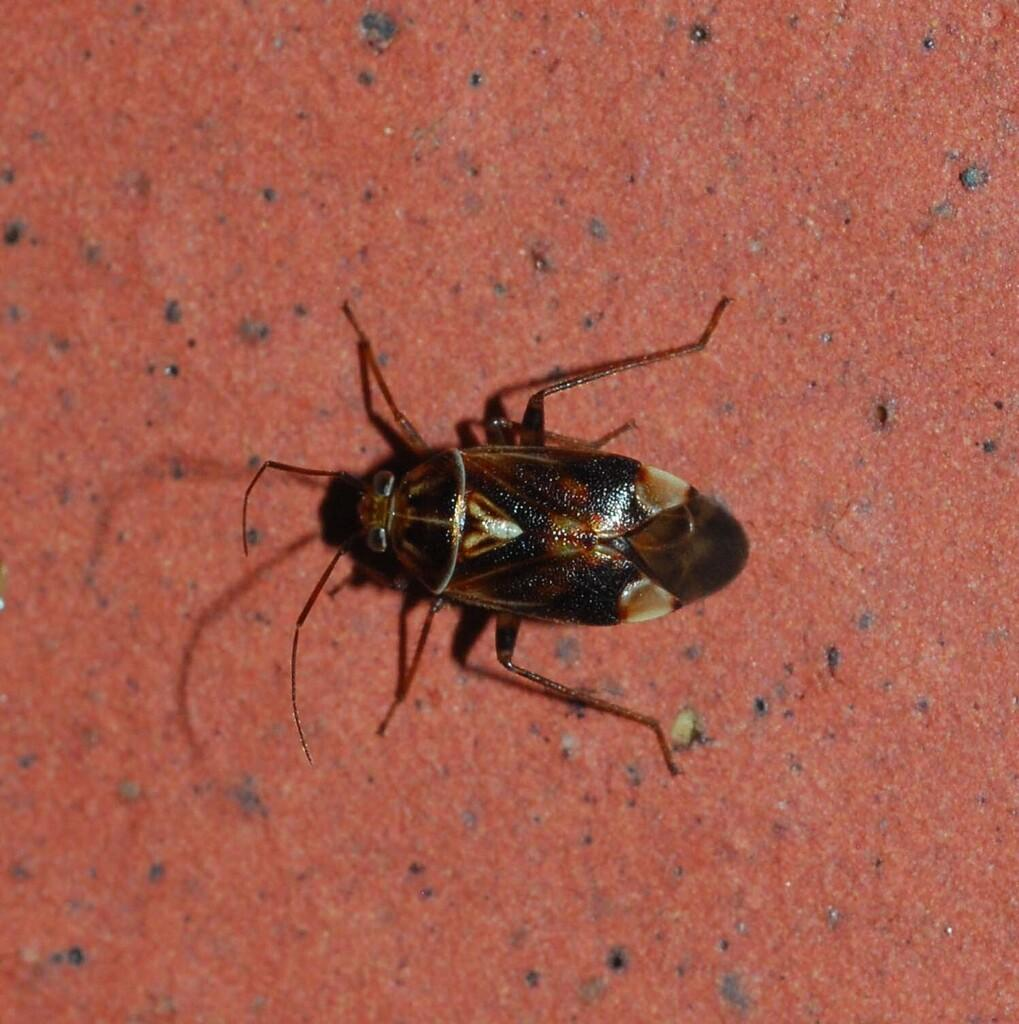plant_bugs: (176, 212, 857, 851)
